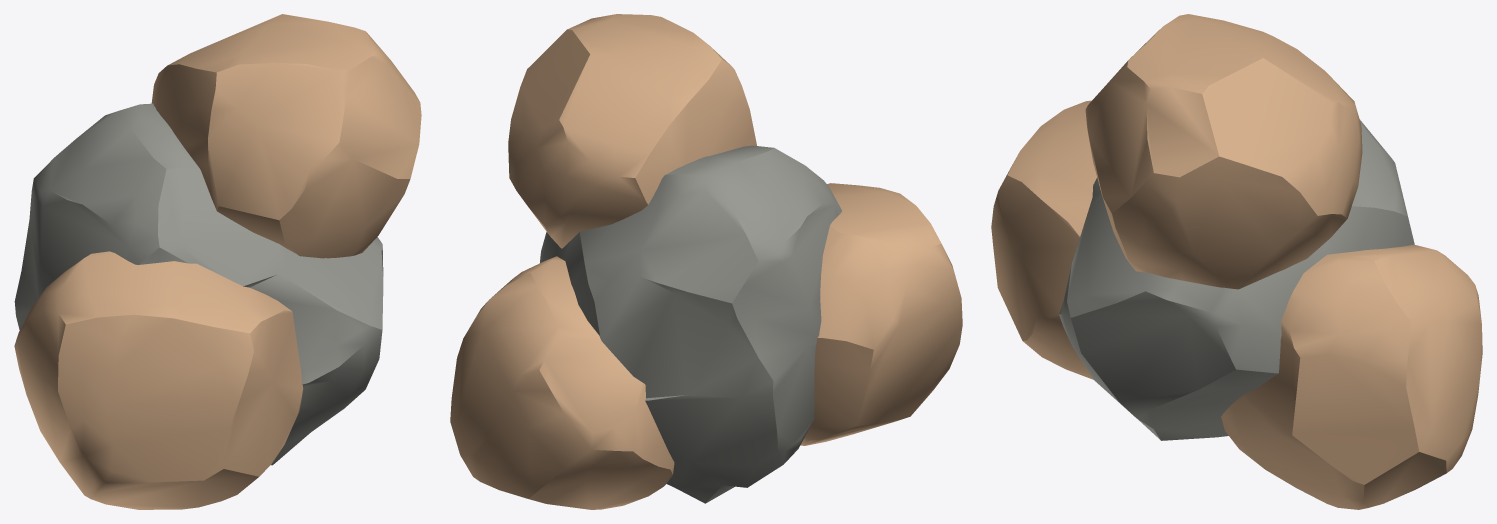
The model's file is quaternius-pirate-ui-gold.glb.
3 views of the same model, side by side, from view 1: azimuth 30°, elevation 25°; view 2: azimuth 150°, elevation 25°; view 3: azimuth 270°, elevation 25° (orthographic). The views are drawn at different scales.
Parts seen in each view (by area): view 1: UI_Gold; view 2: UI_Gold; view 3: UI_Gold.
Part boxes in pixels (left/top/right/bottom): UI_Gold: left=14, top=14, right=421, bottom=509; UI_Gold: left=450, top=14, right=962, bottom=509; UI_Gold: left=991, top=14, right=1482, bottom=509.
Bounding box in the file's own units: 0.3996 × 0.4168 × 0.4139.
1 material, 1 textured.
